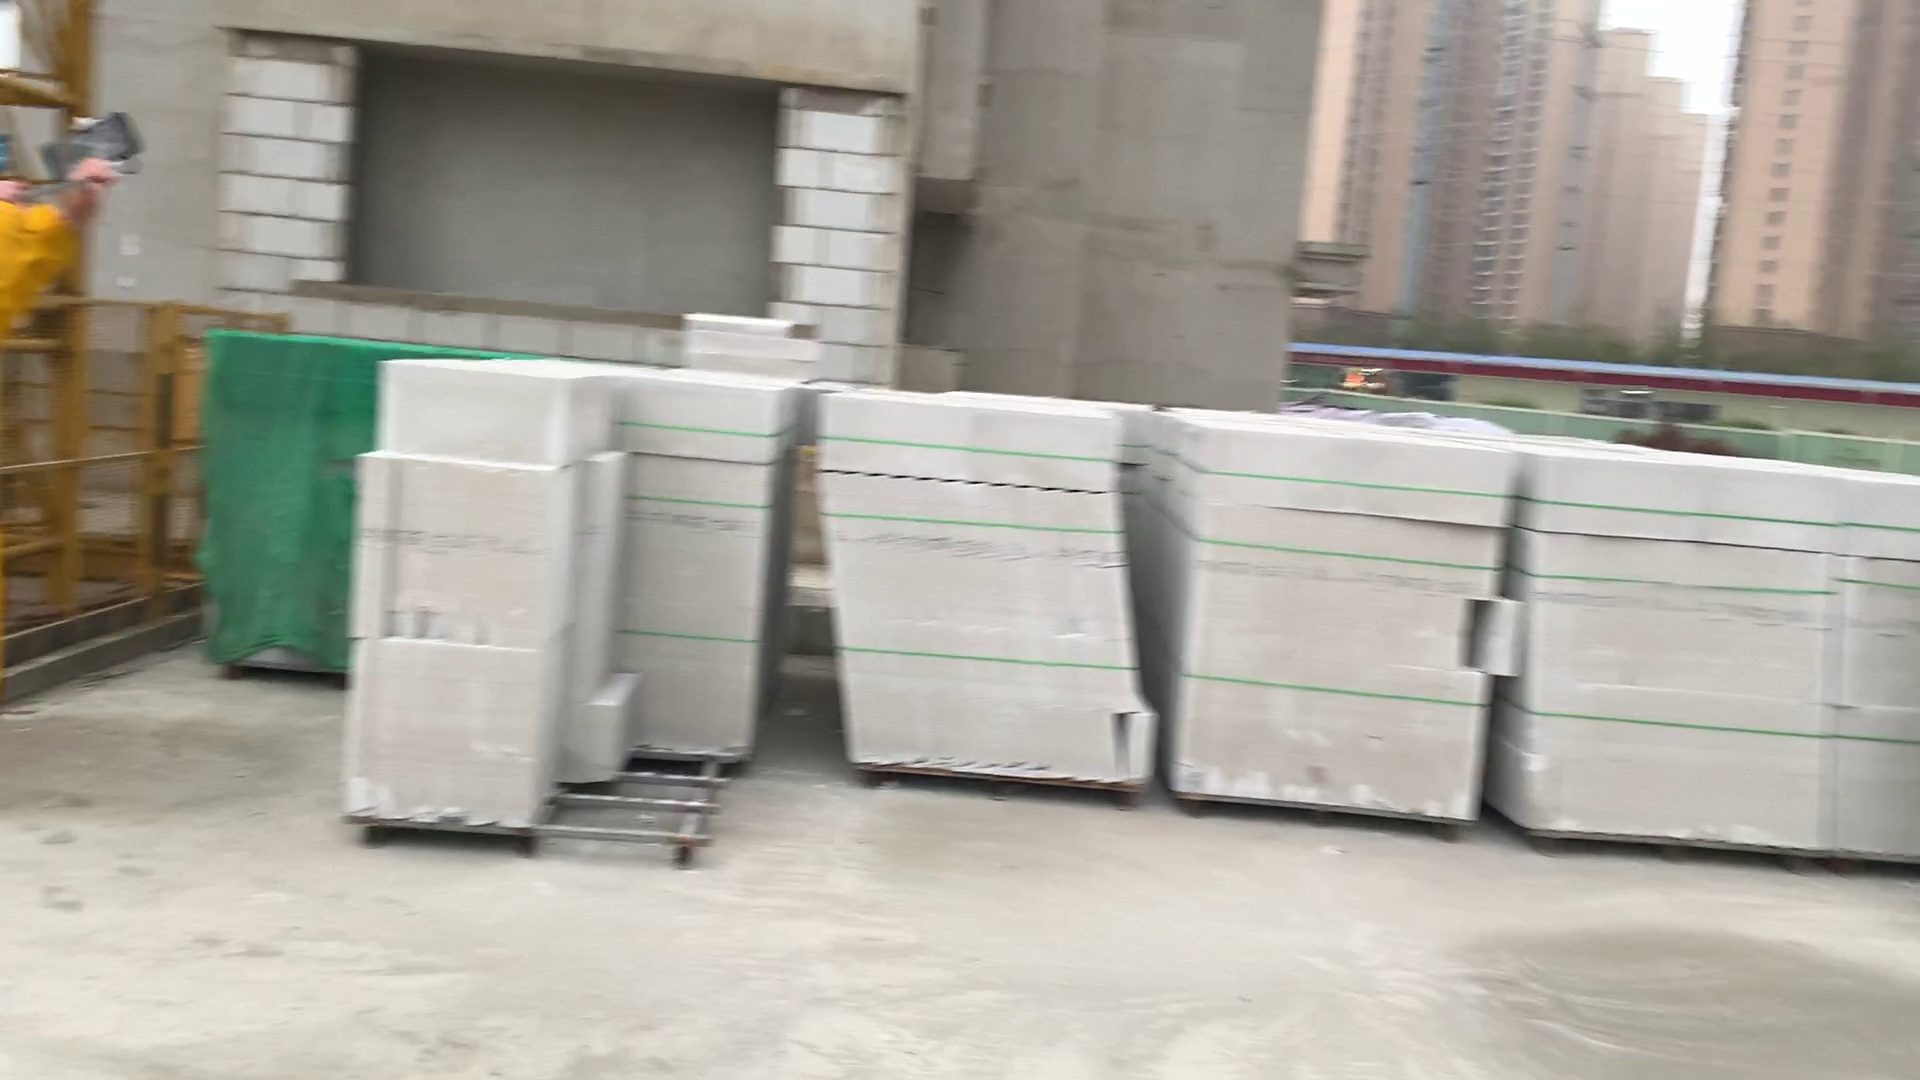brickwork: (368, 367, 774, 837), (1526, 436, 1836, 891), (1185, 411, 1491, 843), (822, 396, 1145, 793), (203, 338, 347, 676), (1844, 476, 1920, 853)
